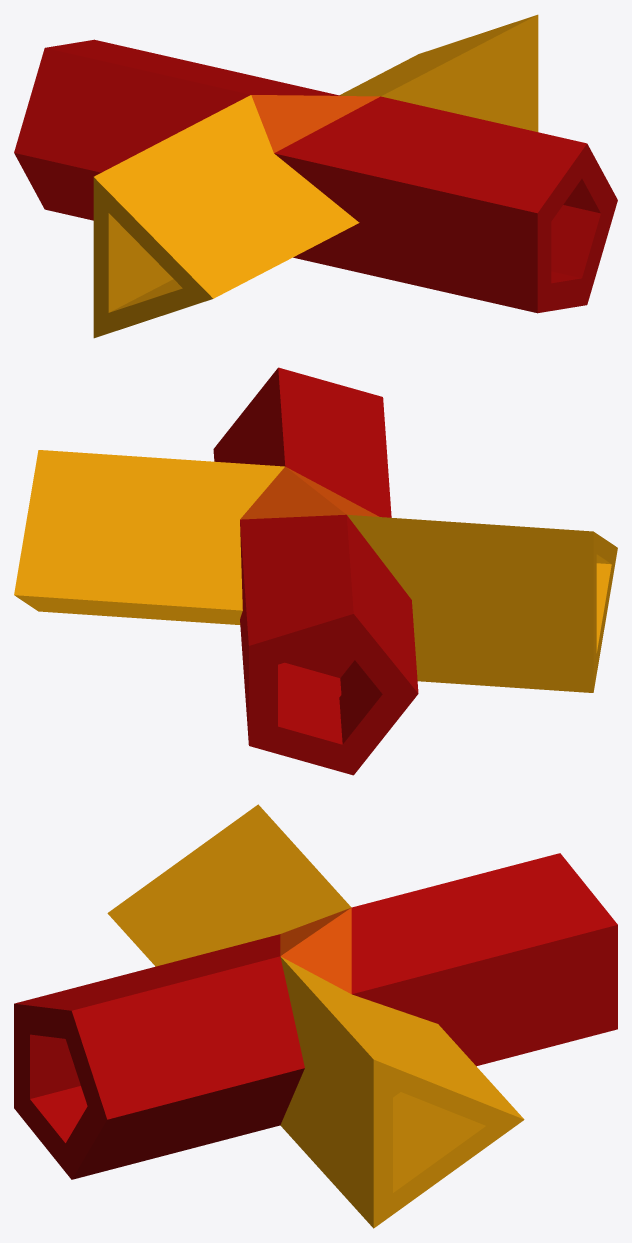
File: red-yellow-cross-bob.dae
3 views of the same model, one above another, from view 1: azimuth 30°, elevation 25°; view 2: azimuth 150°, elevation 25°; view 3: azimuth 270°, elevation 25° (orthographic). The views are drawn at different scales.
Parts seen in each view (by area): view 1: instance8, instance69, instance45, instance66, instance75, instance38, instance72, instance46, instance13, instance92, instance17, instance85 (+13 smaller); view 2: instance89, instance52, instance46, instance69, instance16, instance88, instance45, instance20, instance65, instance19, instance79, instance30 (+11 smaller); view 3: instance20, instance46, instance8, instance78, instance50, instance72, instance89, instance51, instance69, instance38, instance23, instance13 (+13 smaller).
Part boxes in pixels (<box>): instance8: <box>94,153,359,298</box>; instance69: <box>274,96,586,213</box>; instance45: <box>14,48,250,172</box>; instance66: <box>293,213,537,313</box>; instance75: <box>274,153,536,222</box>; instance38: <box>94,95,273,176</box>; instance72: <box>457,15,538,131</box>; instance46: <box>45,39,340,95</box>; instance13: <box>381,15,537,113</box>; instance92: <box>251,95,380,152</box>; instance17: <box>108,213,173,312</box>; instance85: <box>14,153,100,220</box>; instance89: <box>14,450,242,610</box>; instance52: <box>347,514,593,692</box>; instance46: <box>240,514,353,645</box>; instance69: <box>278,367,391,517</box>; instance16: <box>412,600,592,692</box>; instance88: <box>39,450,284,519</box>; instance45: <box>346,515,418,693</box>; instance20: <box>213,368,285,466</box>; instance65: <box>278,680,342,744</box>; instance19: <box>240,466,345,519</box>; instance79: <box>15,595,242,619</box>; instance30: <box>249,726,353,775</box>; instance20: <box>72,956,304,1119</box>; instance46: <box>351,853,617,993</box>; instance8: <box>107,804,280,966</box>; instance78: <box>438,925,617,1066</box>; instance50: <box>72,1068,304,1179</box>; instance72: <box>280,1059,373,1228</box>; instance89: <box>351,994,523,1119</box>; instance51: <box>352,925,616,1023</box>; instance69: <box>15,934,280,1010</box>; instance38: <box>258,804,351,933</box>; instance23: <box>393,1099,485,1192</box>; instance13: <box>280,956,373,1067</box>.
Size of the model in its own units: 2 by 0.618 by 2.
